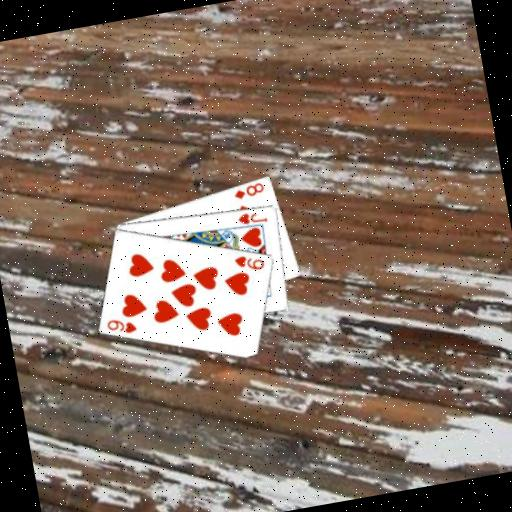8D: (229, 178, 266, 201)
9H: (102, 312, 139, 338), (231, 249, 267, 275)
JH: (234, 206, 269, 228)
